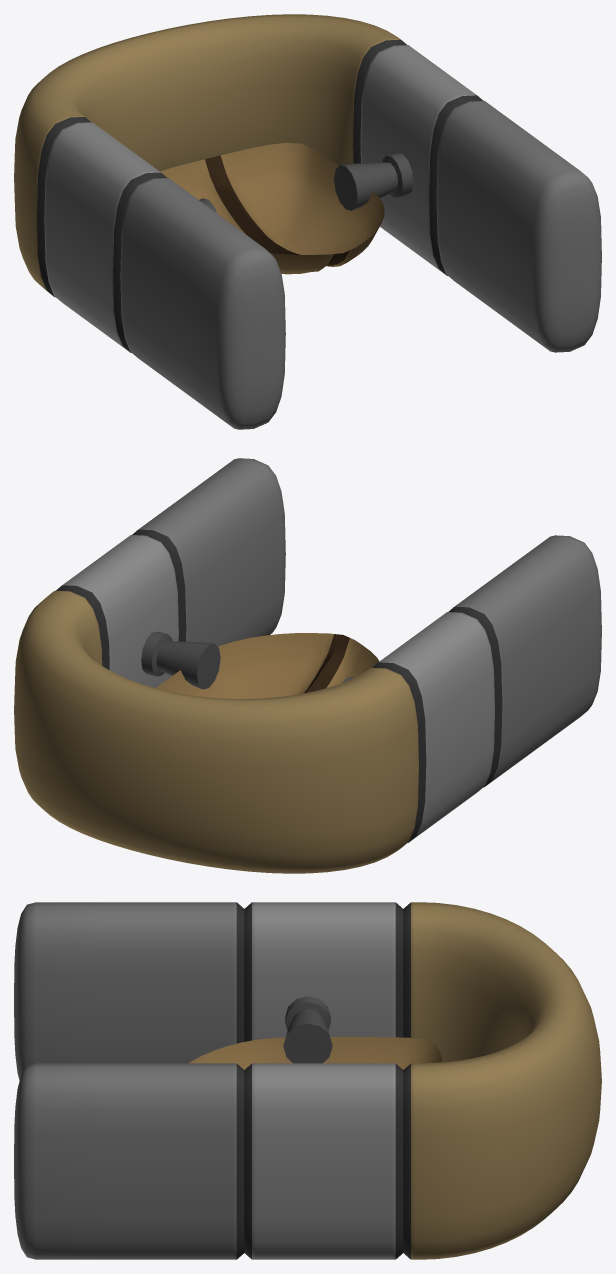
File: uarch.glb
3 renders of one model, top to bottom at view 1: azimuth 30°, elevation 25°; view 2: azimuth 150°, elevation 25°; view 3: azimuth 270°, elevation 25°, orthographic. The views are drawn at different scales.
Parts seen in each view (by area): view 1: band, pod, strut.001; view 2: band, pod, strut.001; view 3: band, pod, strut.
Boxes of the visible parts, x1,y1,x2,y2 form: band: (14,14,601,429); pod: (160,142,384,274); strut.001: (334,153,413,210); band: (14,458,601,873); pod: (156,633,379,698); strut.001: (141,631,220,689); band: (14,902,601,1259); pod: (189,1037,442,1069); strut: (283,996,332,1063).
Bounding box in the file's own units: 14.5 × 6.5 × 18.5.
